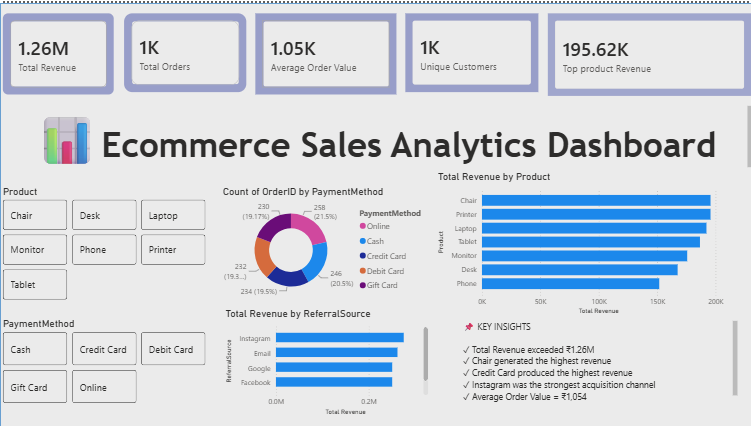

This screenshot's page, from the dashboard's own definition file:
{"tool":"powerbi","page":{"name":"Page 1","canvas":[1280,720],"ordinal":0},"visuals":[{"type":"cardVisual","fields":{"Data":["Sheet1.Total Revenue"]},"box":[0,13,198.6,147.8],"z":0},{"type":"cardVisual","fields":{"Data":["Sheet1.Total Orders"]},"box":[204.7,13,217,143.1],"z":1000},{"type":"cardVisual","fields":{"Data":["Sheet1.Average Order Value"]},"box":[427.9,13,249.4,147.8],"z":2000},{"type":"cardVisual","fields":{"Data":["Sheet1.Unique Customers"]},"box":[683.4,13,235.5,143.1],"z":3000},{"type":"textbox","box":[0,170,1280,115],"z":4000},{"type":"advancedSlicerVisual","fields":{"Values":["Sheet1.Product"]},"box":[0,310,355,200],"z":5000},{"type":"advancedSlicerVisual","fields":{"Values":["Sheet1.PaymentMethod"]},"box":[0,535,355,150],"z":6000},{"type":"clusteredBarChart","fields":{"Category":["Sheet1.Product"],"Y":["Sheet1.Total Revenue"]},"box":[737.5,285,495,250],"z":7000},{"type":"donutChart","fields":{"Category":["Sheet1.PaymentMethod"],"Y":["CountNonNull(Sheet1.OrderID)"]},"box":[372.5,310,355,200],"z":8000},{"type":"clusteredBarChart","fields":{"Y":["Sheet1.Total Revenue"],"Category":["Sheet1.ReferralSource"]},"box":[377.2,517.1,353.9,186.5],"z":9000},{"type":"textbox","box":[780,535,475,150],"z":10000},{"type":"cardVisual","fields":{"Data":["Sheet1.Top product Revenue"]},"box":[925,13,355,150],"z":11000},{"type":"shape","box":[0,0,1280,720.5],"z":11001}]}

Visuals, with their boxes in screenshot pixels (x1, y1, x2, y2), scaled from the page's 1280x720 canvas onto the 751x426 screenshot:
cardVisual - Sheet1.Total Revenue: l=0, t=8, r=117, b=95
cardVisual - Sheet1.Total Orders: l=120, t=8, r=247, b=92
cardVisual - Sheet1.Average Order Value: l=251, t=8, r=397, b=95
cardVisual - Sheet1.Unique Customers: l=401, t=8, r=539, b=92
textbox: l=0, t=101, r=750, b=169
advancedSlicerVisual - Sheet1.Product: l=0, t=183, r=208, b=302
advancedSlicerVisual - Sheet1.PaymentMethod: l=0, t=317, r=208, b=405
clusteredBarChart - Sheet1.Product x Sheet1.Total Revenue: l=433, t=169, r=723, b=317
donutChart - Sheet1.PaymentMethod x CountNonNull(Sheet1.OrderID): l=219, t=183, r=427, b=302
clusteredBarChart - Sheet1.Total Revenue x Sheet1.ReferralSource: l=221, t=306, r=429, b=416
textbox: l=458, t=317, r=736, b=405
cardVisual - Sheet1.Top product Revenue: l=543, t=8, r=750, b=96
shape: l=0, t=0, r=750, b=425
